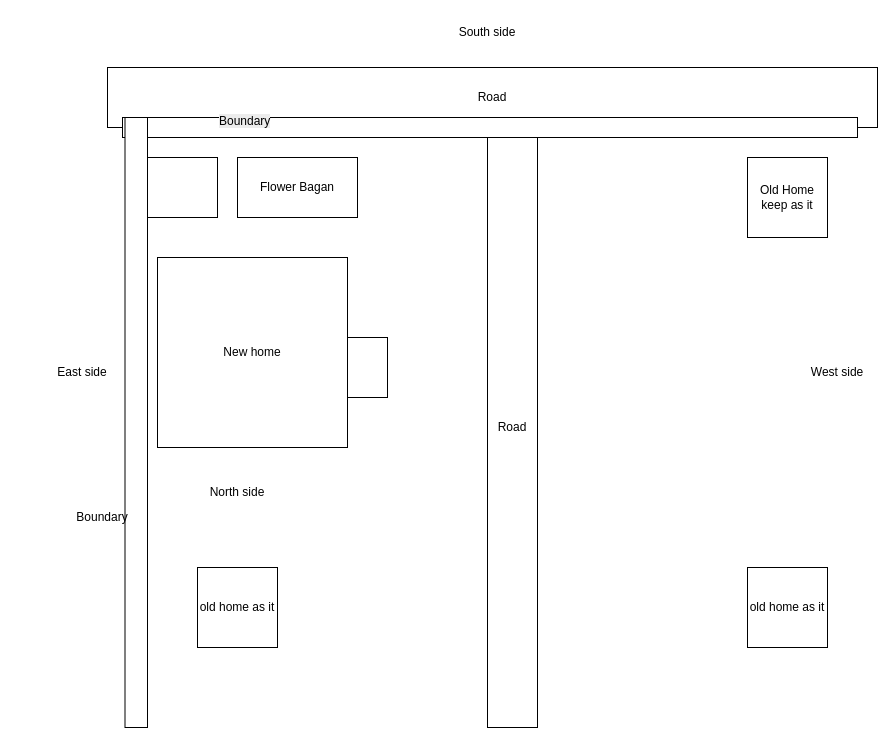
This 895x745 diagram has some shape labels left out. The box of each missing label's shape, as (x1, y1, x2, y2) in pixels:
Car garage: (146, 156, 218, 218)
Gate: (122, 116, 858, 138)
main gate: (346, 336, 388, 398)
